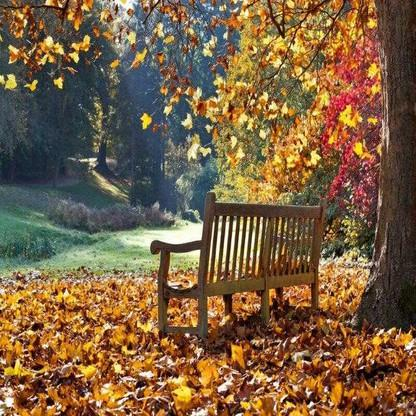obstacle: (132, 190, 340, 360)
